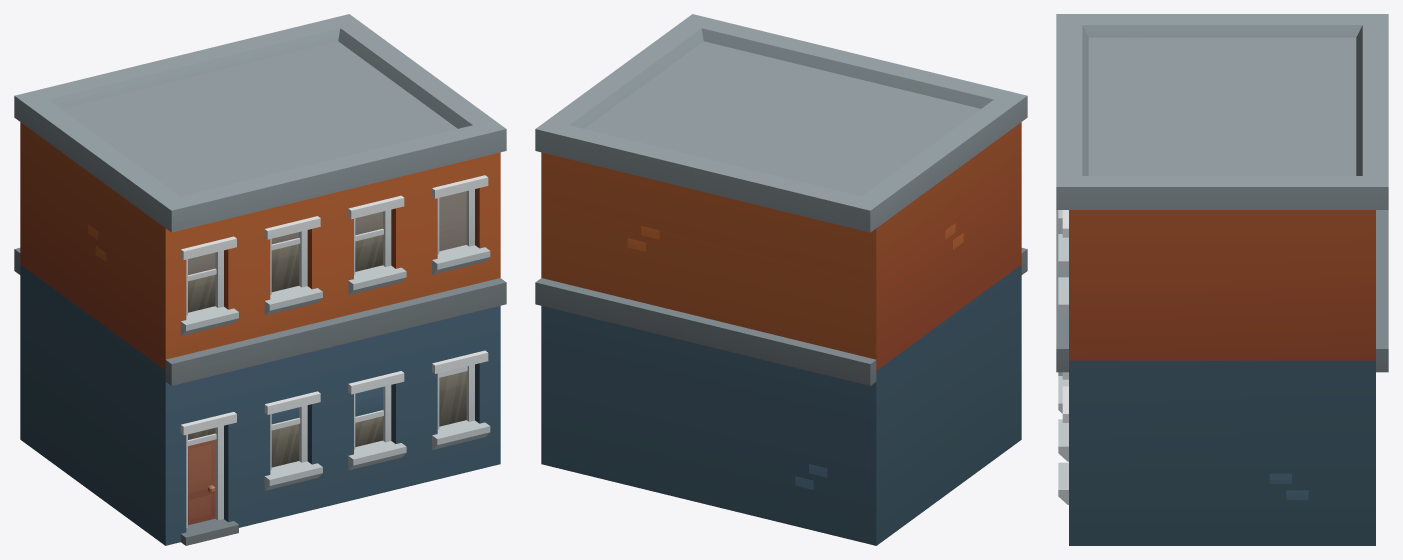
File: building-tall.glb
3 renders of one model, left to right at view 1: azimuth 30°, elevation 25°; view 2: azimuth 150°, elevation 25°; view 3: azimuth 270°, elevation 25°, orthographic. The views are drawn at different scales.
Parts seen in each view (by area): view 1: building_B_withoutBase; view 2: building_B_withoutBase; view 3: building_B_withoutBase.
Boxes of the visible parts, x1,y1,x2,y2 form: building_B_withoutBase: (14,14,506,545); building_B_withoutBase: (535,14,1027,545); building_B_withoutBase: (1056,14,1388,545).
Bounding box in the file's own units: 20.73 × 20 × 16.77.
Materials: 1 (1 with a texture image).
